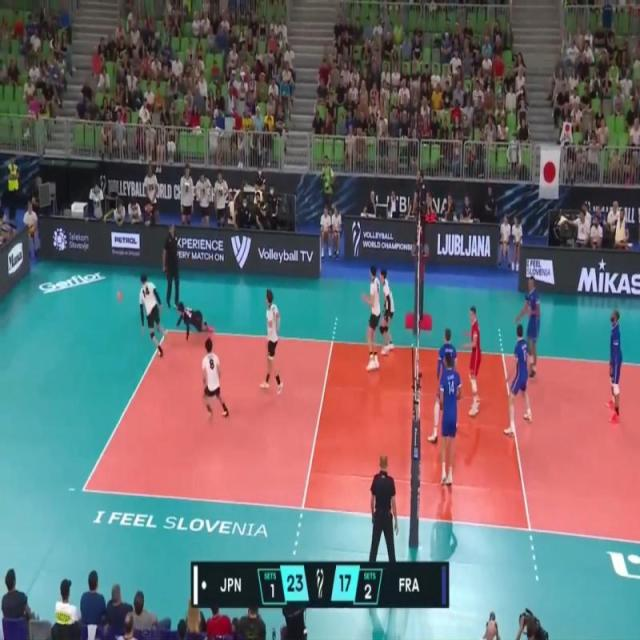volleyball: (115, 288, 123, 302)
